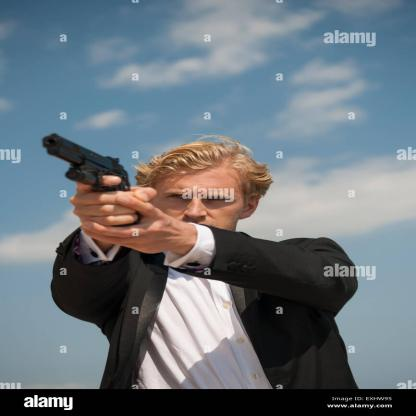handgun: (43, 131, 144, 246)
